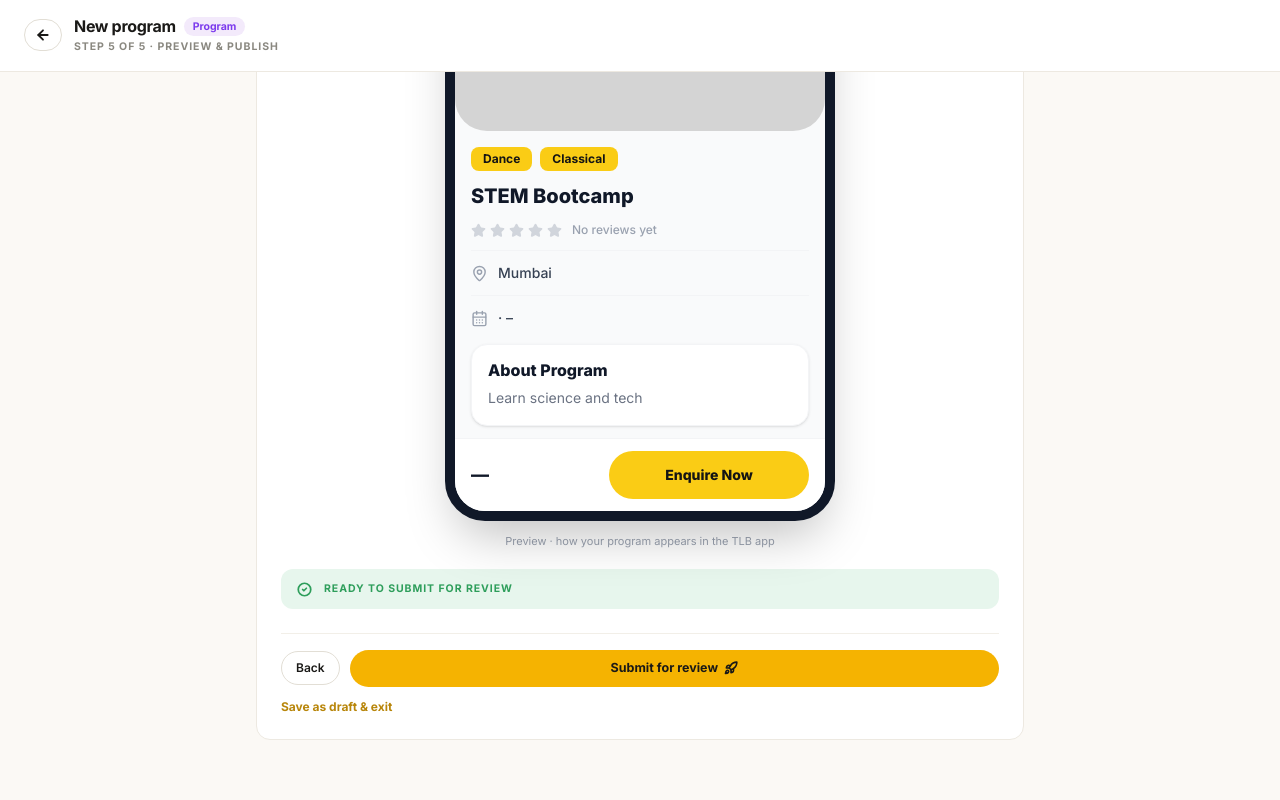
Test: CreateProgramPreview — submit › shows success modal after submit
The image size is (1280, 800).
(page scrolled)
Expected: the heading "STEM Bootcamp" is shown, [471, 184, 634, 208]
Click the button "Submit for review" at (674, 668), box [350, 650, 999, 687]
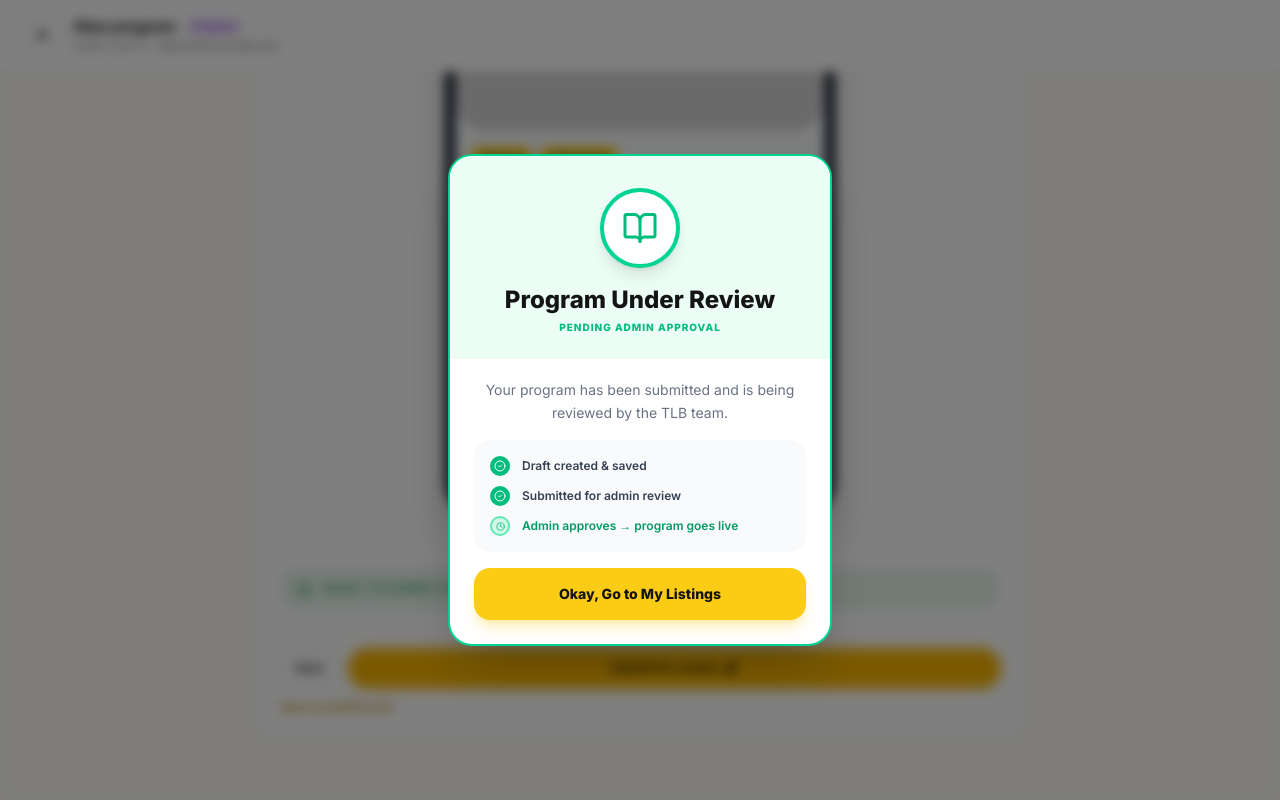
Now the heading "Program Under Review" is shown, box [505, 284, 775, 316]
